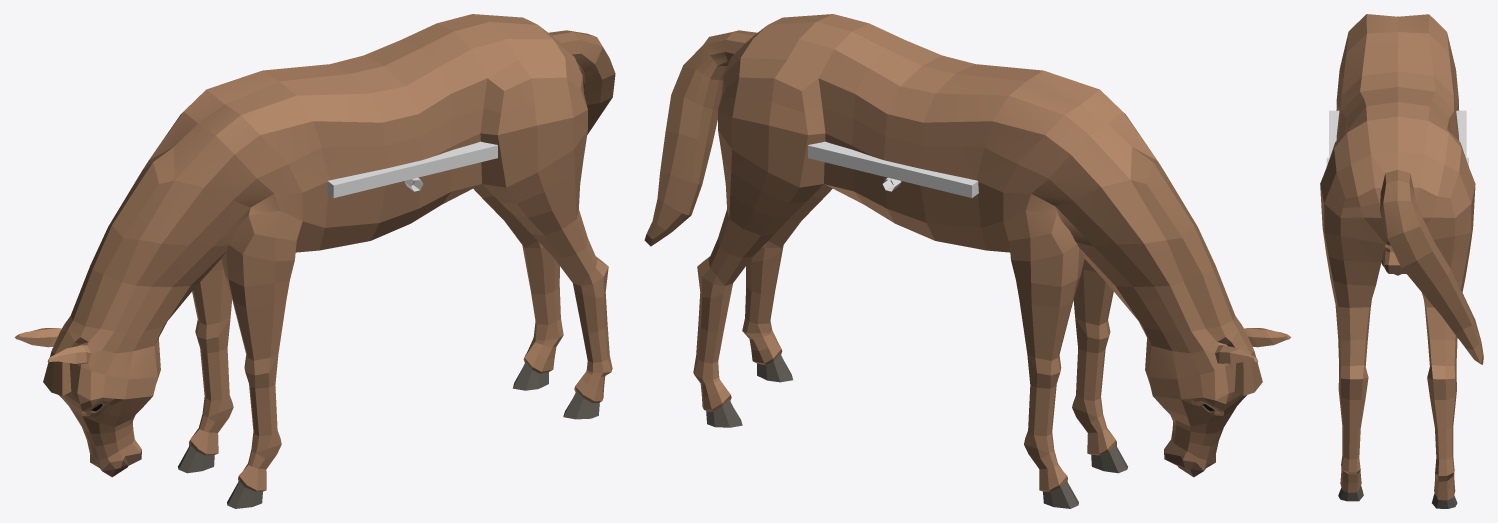
The model's file is horse_1.glb.
3 views of the same model, side by side, from view 1: azimuth 30°, elevation 25°; view 2: azimuth 150°, elevation 25°; view 3: azimuth 270°, elevation 25° (orthographic). The views are drawn at different scales.
Parts seen in each view (by area): view 1: horse_1; view 2: horse_1; view 3: horse_1.
Boxes of the visible parts, x1,y1,x2,y2 form: horse_1: [14, 14, 615, 508]; horse_1: [644, 14, 1291, 508]; horse_1: [1320, 14, 1483, 508].
Size of the model in its own units: 2.43 by 1.57 by 0.6533.
